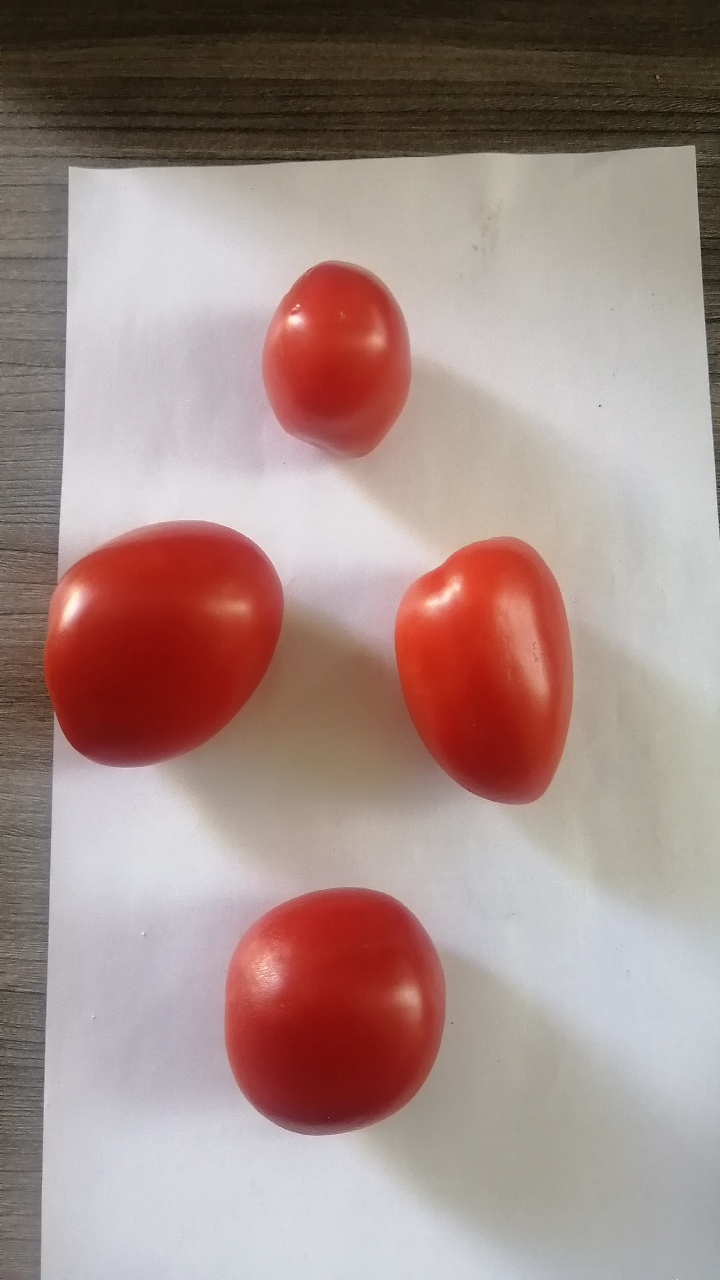tomateRojo: (34, 505, 303, 789), (209, 872, 466, 1154), (377, 525, 589, 828), (229, 228, 420, 489)
